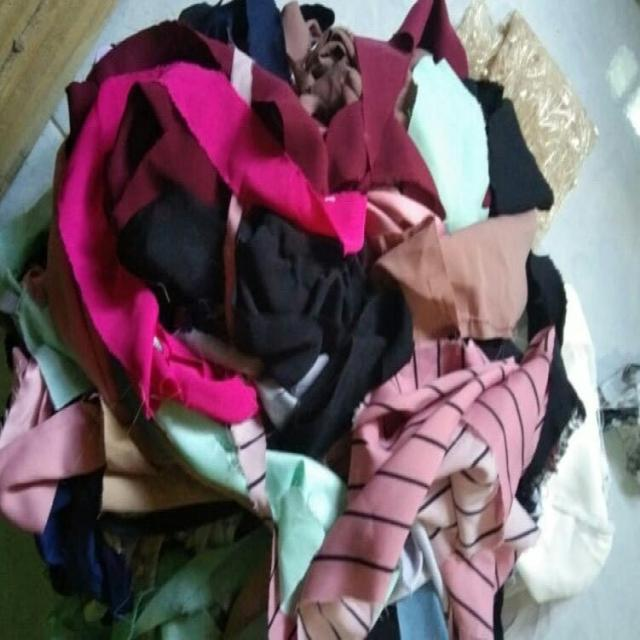Anorganik: (5, 35, 612, 640)
